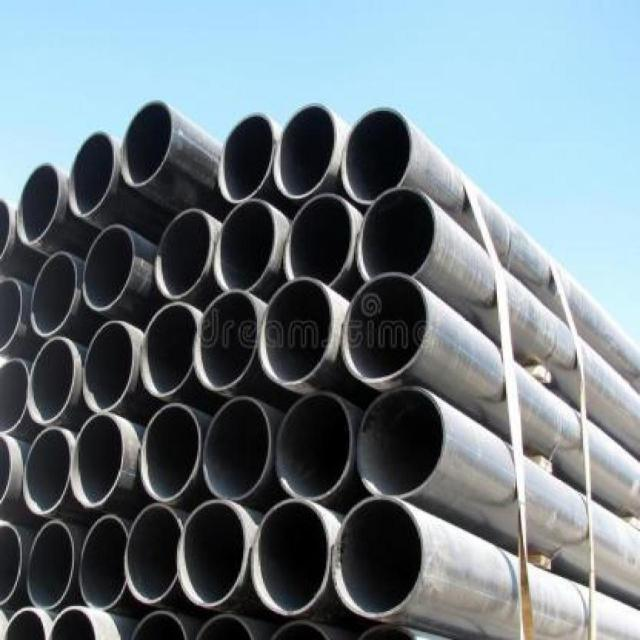pipe: (332, 496, 426, 619), (341, 272, 430, 383), (357, 386, 446, 497), (251, 500, 331, 615), (276, 392, 353, 500), (258, 277, 334, 385), (176, 499, 249, 607), (202, 396, 272, 501), (357, 188, 437, 279), (340, 107, 413, 204), (192, 290, 259, 392), (213, 199, 278, 295), (284, 193, 354, 282), (124, 503, 184, 605), (273, 104, 338, 198), (141, 404, 202, 503), (140, 302, 199, 397), (71, 412, 125, 509), (219, 112, 276, 203), (155, 209, 212, 298), (79, 514, 129, 611), (83, 320, 134, 413), (120, 100, 174, 187), (82, 224, 135, 311), (22, 426, 72, 514), (28, 520, 76, 610), (68, 131, 117, 219), (28, 336, 76, 424), (29, 251, 77, 336), (16, 163, 61, 246), (0, 354, 32, 432), (0, 518, 26, 608), (130, 607, 193, 640), (193, 611, 258, 640), (46, 607, 102, 640), (1, 604, 52, 640), (0, 277, 23, 352)
